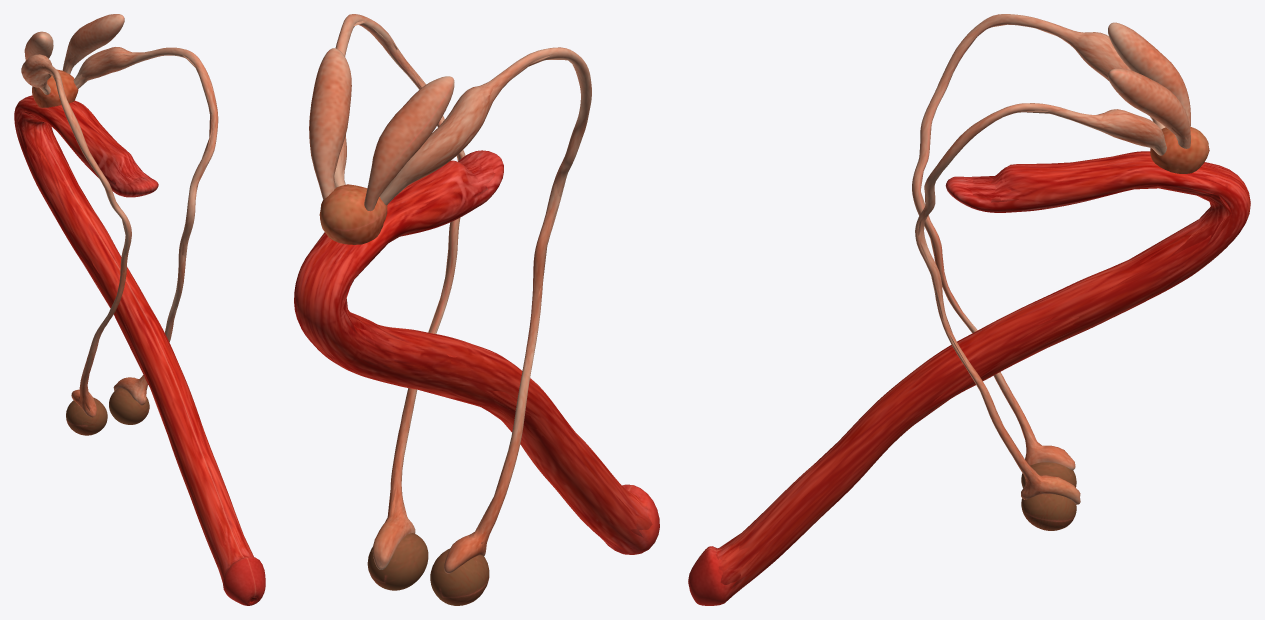
File: Genitals.fbx
3 renders of one model, left to right at view 1: azimuth 30°, elevation 25°; view 2: azimuth 150°, elevation 25°; view 3: azimuth 270°, elevation 25°, orthographic. The views are drawn at different scales.
Visible parts, largest first — view 1: Genitals high, Genitals, Genitals low; view 2: Genitals high, Genitals, Genitals low; view 3: Genitals high, Genitals, Genitals low.
Part boxes in pixels (bbox=[...]): Genitals high: bbox=[14, 14, 265, 605]; Genitals: bbox=[16, 14, 257, 604]; Genitals low: bbox=[17, 51, 255, 602]; Genitals high: bbox=[294, 14, 659, 605]; Genitals: bbox=[309, 14, 650, 573]; Genitals low: bbox=[333, 21, 652, 543]; Genitals high: bbox=[688, 14, 1250, 605]; Genitals: bbox=[711, 14, 1233, 599]; Genitals low: bbox=[715, 24, 1231, 588].
Bounding box in the file's own units: 15.43 × 45.39 × 41.51.
Materials: 1 (1 with a texture image).
